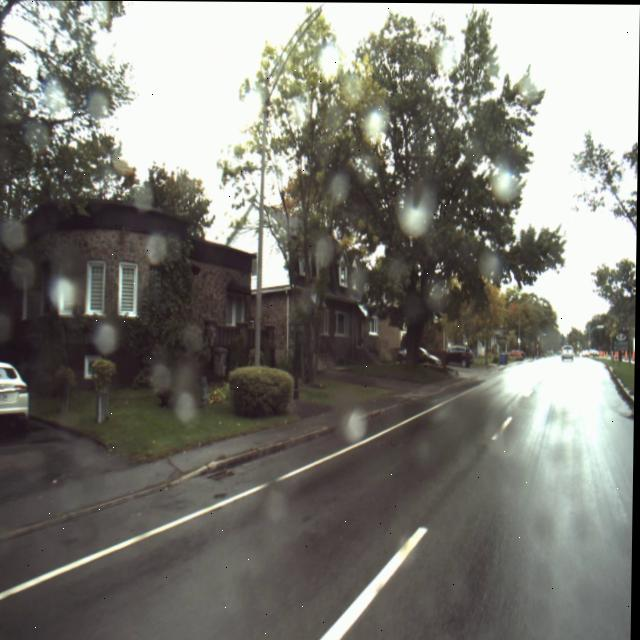car: (0, 362, 32, 434), (400, 347, 443, 368), (446, 345, 476, 367), (562, 344, 576, 361)
